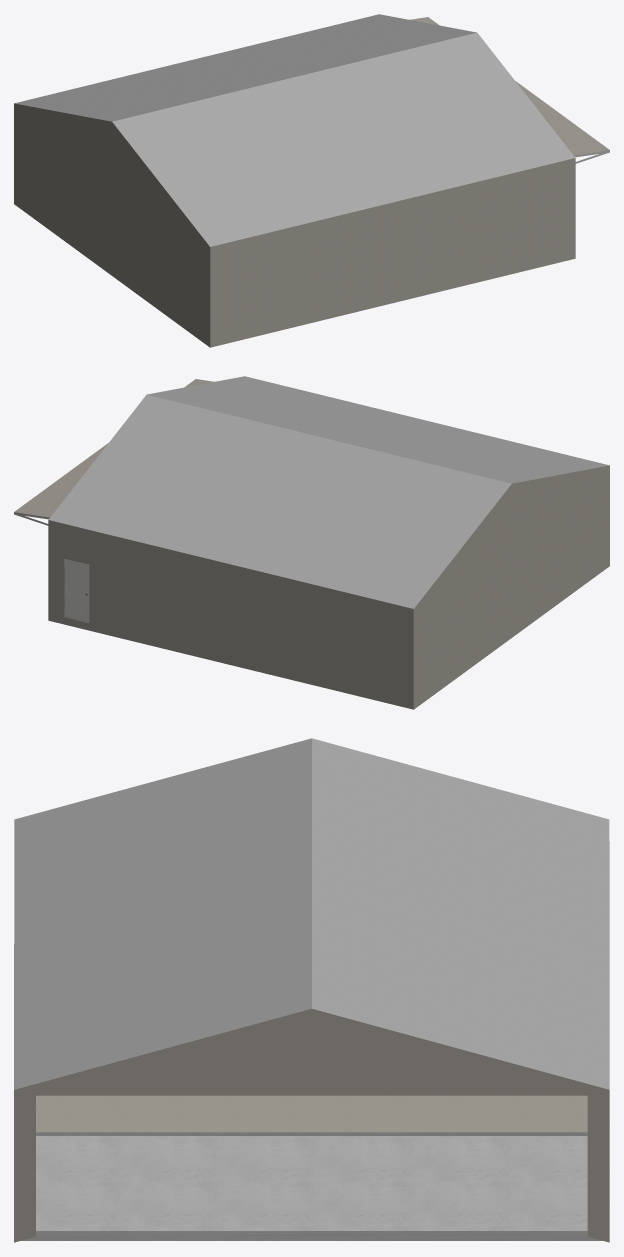
File: gen_open_hangar02-14x15x4-cbj_LOD04.gltf
The picture shows the model from 3 angles, top to bottom: view 1: azimuth 30°, elevation 25°; view 2: azimuth 150°, elevation 25°; view 3: azimuth 270°, elevation 25°; orthographic projection. The views are drawn at different scales.
Visible parts, largest first — view 1: Cube.010; view 2: Cube.010; view 3: Cube.010.
Part boxes in pixels (x1=…): Cube.010: x1=14, y1=14, x2=609, y2=347; Cube.010: x1=14, y1=376, x2=609, y2=709; Cube.010: x1=14, y1=738, x2=609, y2=1242.
Bounding box in the file's own units: 16.15 × 5.85 × 13.5.
